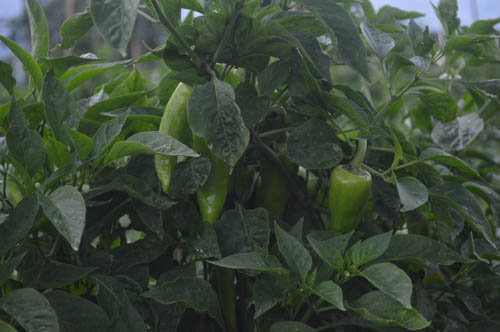ChiliPepper: (156, 83, 191, 193), (327, 166, 370, 233), (255, 156, 297, 224), (193, 135, 227, 218)
